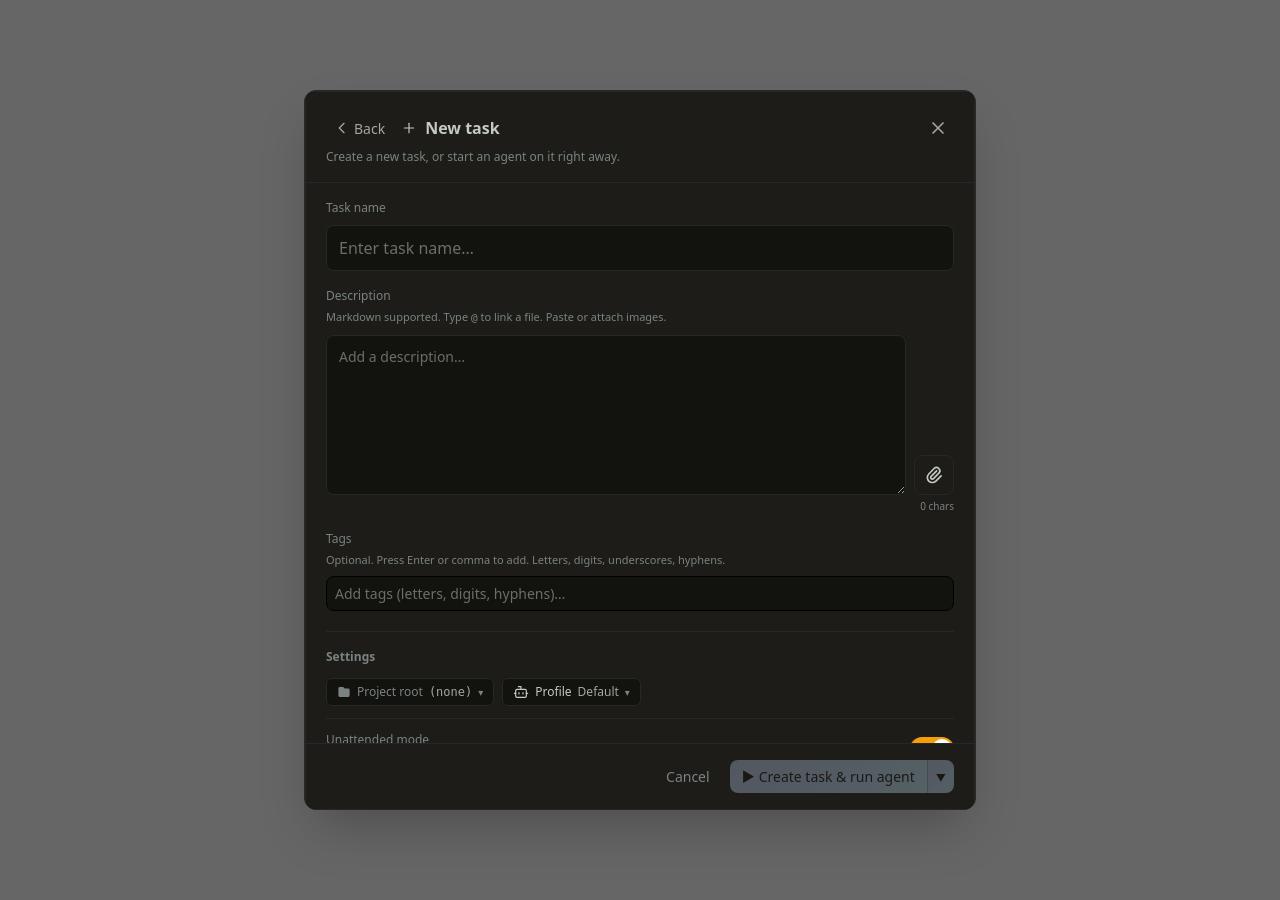
Test: KanbanTaskDetailDialog — profile picker › selecting a profile updates the button label
The image size is (1280, 900).
Click the button with test id "kanban-task-detail-profile-picker".
click(572, 692)  # box [502, 678, 641, 706]
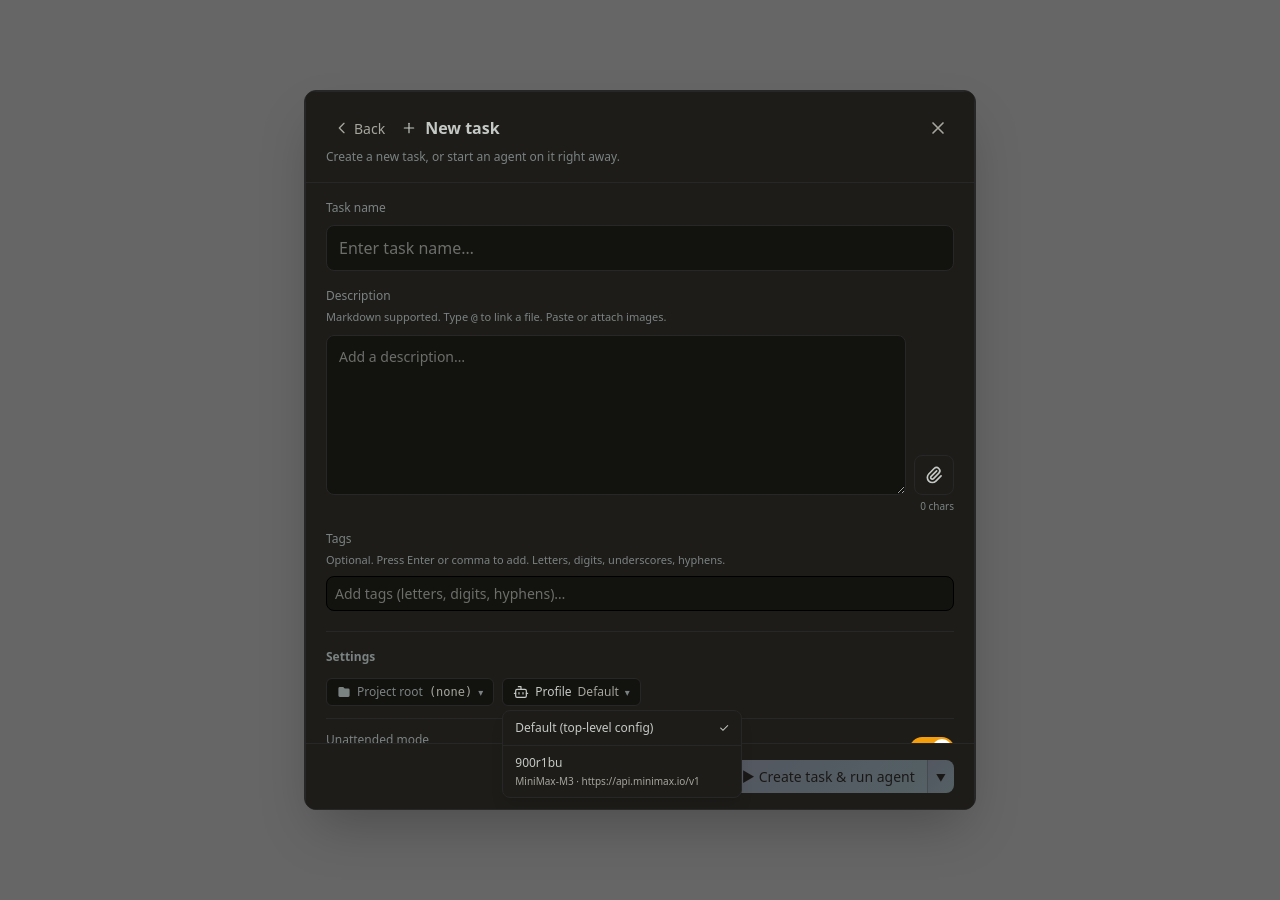
Click the button with test id "kanban-task-detail-profile-picker-item" that starts with "900r1bu".
click(622, 771)  # box [503, 745, 741, 797]
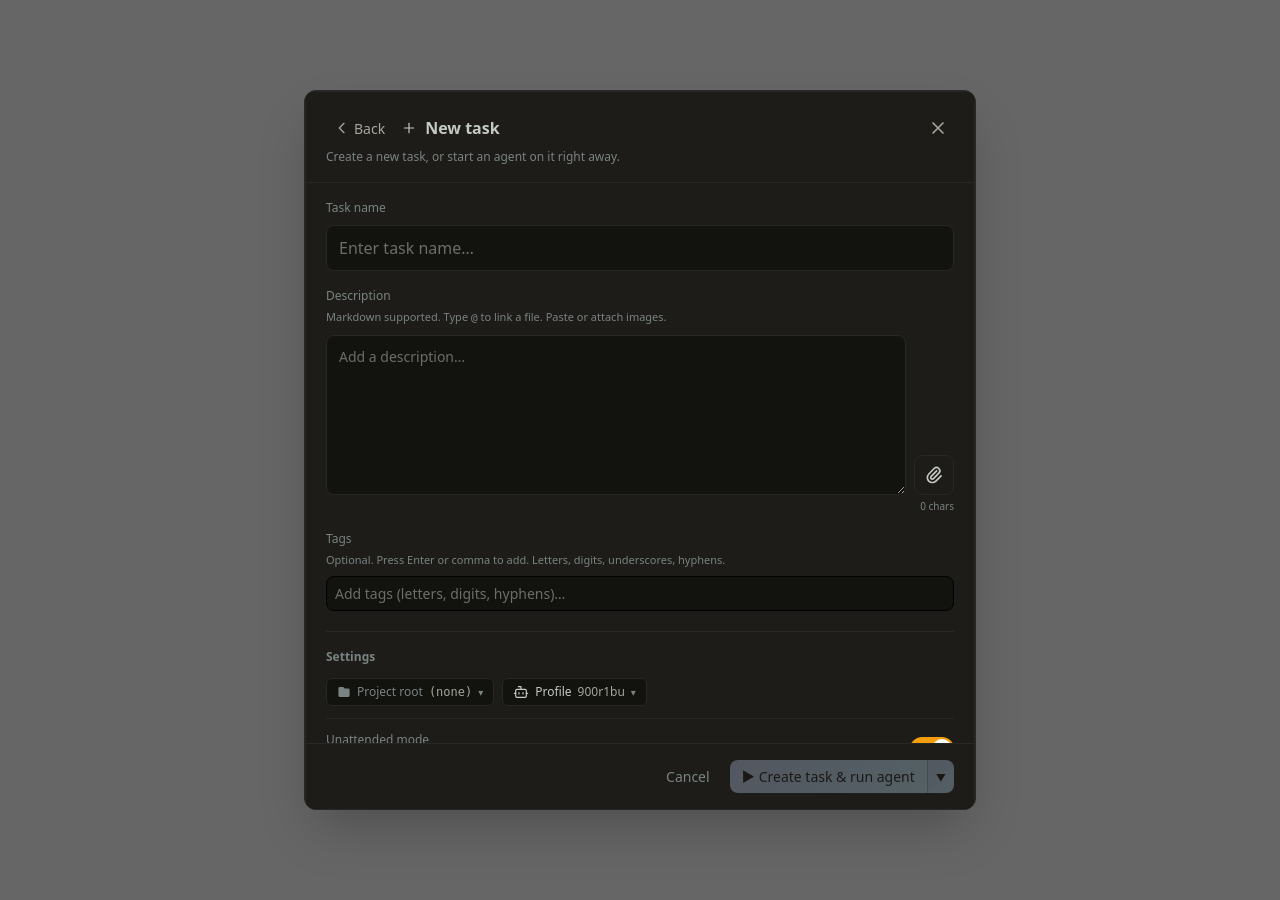
Now the button with test id "kanban-task-detail-profile-picker" shows "900r1bu", box [502, 678, 647, 706]
